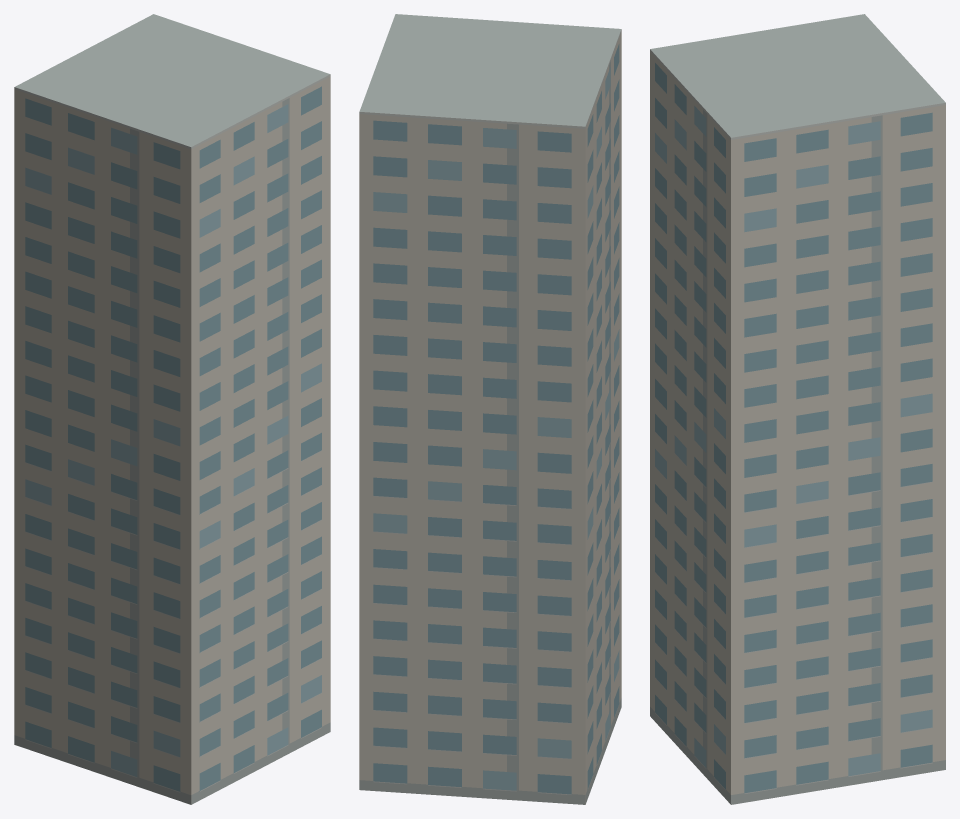
Rendered from residential-4381068f-4887-43de-b695-6d986bbb9ab4.glb.
The picture shows the model from 3 angles, left to right: view 1: azimuth 30°, elevation 25°; view 2: azimuth 150°, elevation 25°; view 3: azimuth 270°, elevation 25°; orthographic projection. The views are drawn at different scales.
Parts seen in each view (by area): view 1: residential-4381068f-4887-43de-b695-6d986bbb9ab4.tmp; view 2: residential-4381068f-4887-43de-b695-6d986bbb9ab4.tmp; view 3: residential-4381068f-4887-43de-b695-6d986bbb9ab4.tmp.
Part boxes in pixels (bbox=[...]): residential-4381068f-4887-43de-b695-6d986bbb9ab4.tmp: bbox=[14, 14, 330, 804]; residential-4381068f-4887-43de-b695-6d986bbb9ab4.tmp: bbox=[359, 14, 621, 804]; residential-4381068f-4887-43de-b695-6d986bbb9ab4.tmp: bbox=[650, 14, 945, 804].
Size of the model in its own units: 29.47 by 74 by 29.76.
